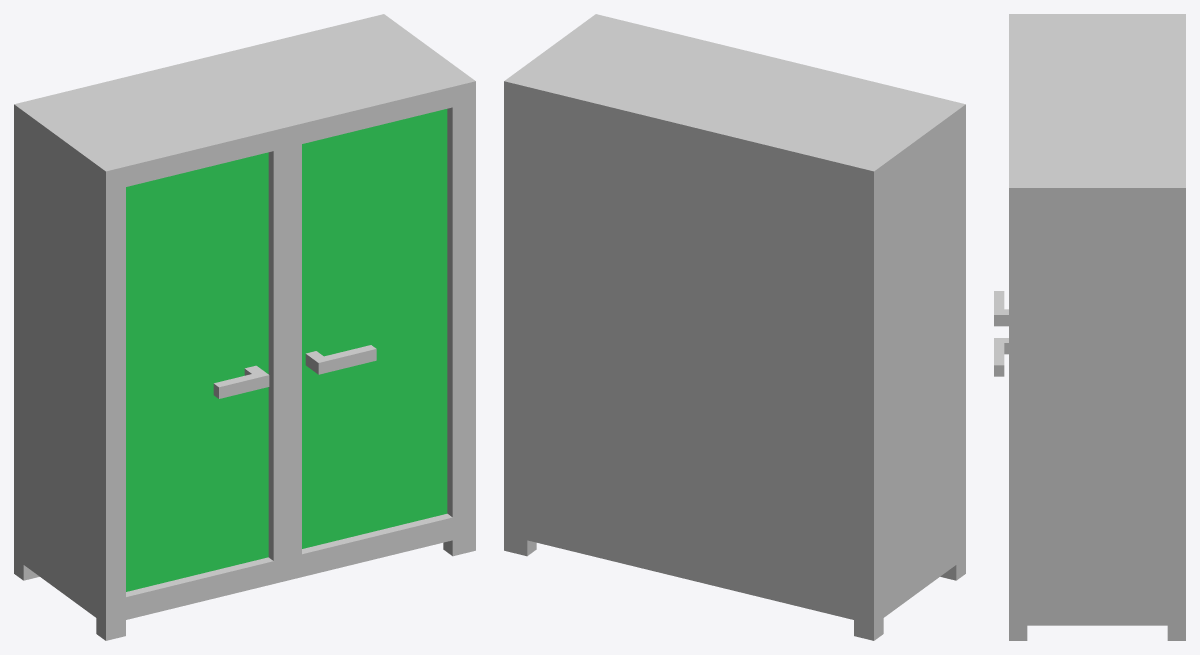
The model's file is wardrobe.fbx.
3 views of the same model, side by side, from view 1: azimuth 30°, elevation 25°; view 2: azimuth 150°, elevation 25°; view 3: azimuth 270°, elevation 25° (orthographic). The views are drawn at different scales.
Parts seen in each view (by area): view 1: Cube.003; view 2: Cube.003; view 3: Cube.003.
Part boxes in pixels (x1,y1,x2,y2): Cube.003: (14, 14, 475, 640); Cube.003: (504, 14, 965, 640); Cube.003: (994, 14, 1185, 640).
Size of the model in its own units: 465 by 564 by 217.
